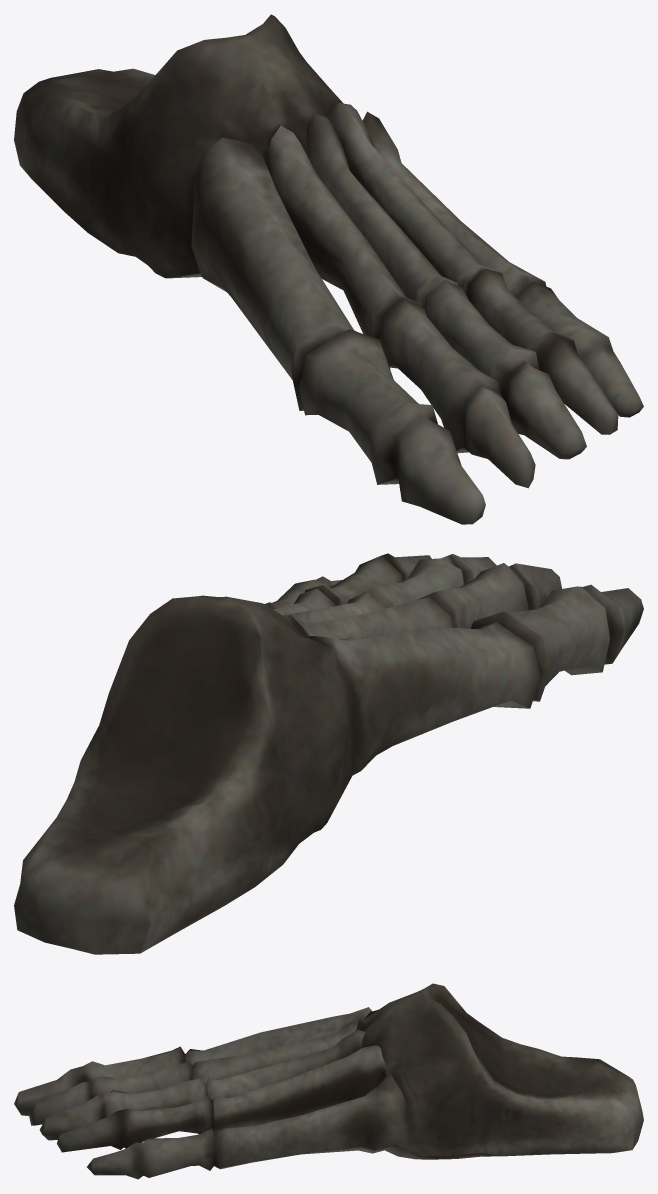
The model's file is left_foot.obj.
3 renders of one model, top to bottom at view 1: azimuth 30°, elevation 25°; view 2: azimuth 150°, elevation 25°; view 3: azimuth 270°, elevation 25°, orthographic. The views are drawn at different scales.
Visible parts, largest first — view 1: fet_1_izq__Material; view 2: fet_1_izq__Material; view 3: fet_1_izq__Material.
Boxes of the visible parts, x1,y1,x2,y2 form: fet_1_izq__Material: (14,14,643,524); fet_1_izq__Material: (14,553,643,954); fet_1_izq__Material: (14,983,643,1179).
Size of the model in its own units: 0.0556 by 0.045 by 0.1642.
